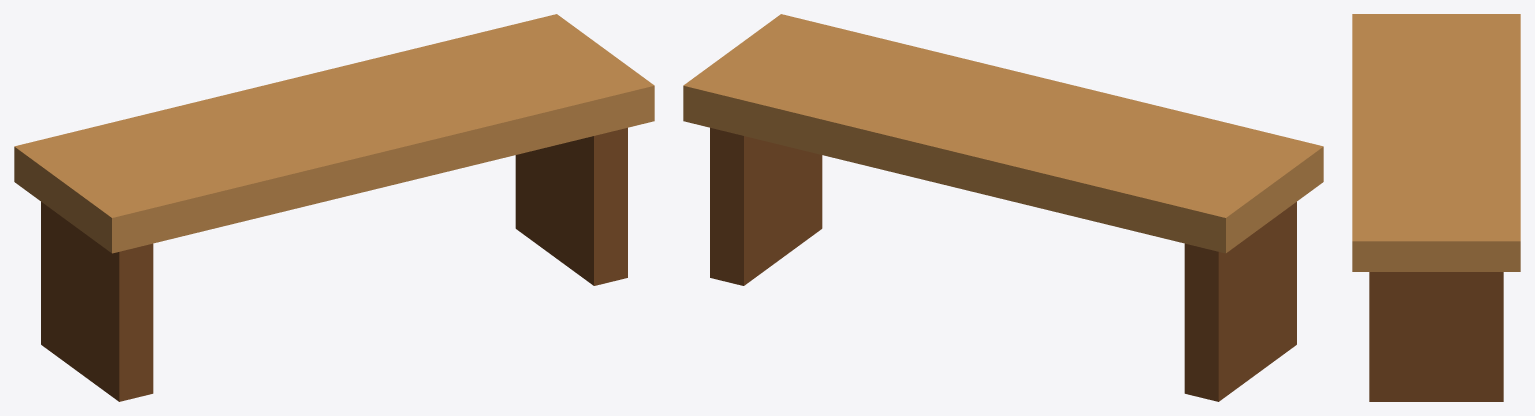
File: wooden_bench.glb
The picture shows the model from 3 angles, left to right: view 1: azimuth 30°, elevation 25°; view 2: azimuth 150°, elevation 25°; view 3: azimuth 270°, elevation 25°; orthographic projection. The views are drawn at different scales.
Parts seen in each view (by area): view 1: wooden_bench; view 2: wooden_bench; view 3: wooden_bench.
Boxes of the visible parts, x1,y1,x2,y2 form: wooden_bench: [14, 14, 654, 401]; wooden_bench: [683, 14, 1323, 401]; wooden_bench: [1352, 14, 1520, 401].
Bounding box in the file's own units: 1.6 × 0.55 × 0.5.
